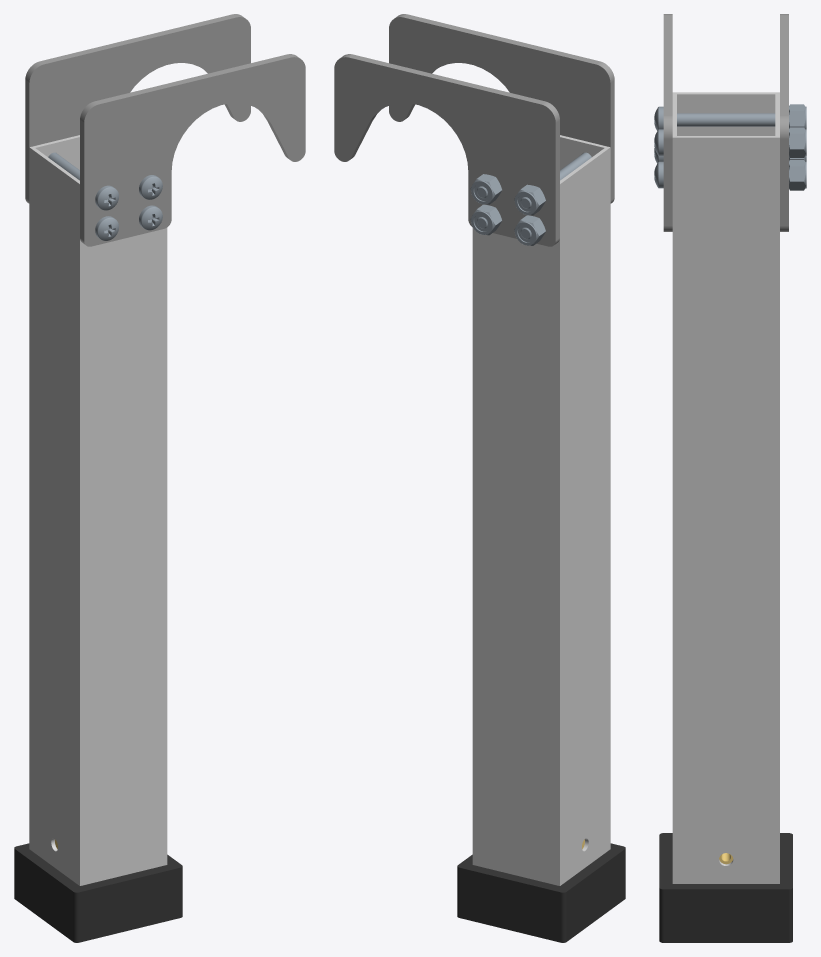
3 renders of one model, left to right at view 1: azimuth 30°, elevation 25°; view 2: azimuth 150°, elevation 25°; view 3: azimuth 270°, elevation 25°, orthographic. The views are drawn at different scales.
Parts seen in each view (by area): view 1: Inner Stage, Climber Hook (×2), 2X2 Stage Internal End Block, Pan head machine screw #10-32 x 2; view 2: Inner Stage, Climber Hook (×2), 2X2 Stage Internal End Block, Hex lock nut with nylon insert #10-32 (×4); view 3: Inner Stage, 2X2 Stage Internal End Block, Climber Hook (×2), Pan head machine screw #10-32 x 2, Hex lock nut with nylon insert #10-32 (×3).
Boxes of the visible parts, x1=… form: Inner Stage: x1=29, y1=135, x2=167, y2=885; Climber Hook (×2): x1=25, y1=14, x2=305, y2=246; 2X2 Stage Internal End Block: x1=14, y1=839, x2=182, y2=942; Pan head machine screw #10-32 x 2: x1=48, y1=152, x2=118, y2=210; Inner Stage: x1=472, y1=135, x2=610, y2=885; Climber Hook (×2): x1=334, y1=14, x2=614, y2=246; 2X2 Stage Internal End Block: x1=457, y1=839, x2=625, y2=942; Hex lock nut with nylon insert #10-32 (×4): x1=470, y1=174, x2=545, y2=245; Inner Stage: x1=672, y1=92, x2=779, y2=883; 2X2 Stage Internal End Block: x1=659, y1=833, x2=792, y2=942; Climber Hook (×2): x1=663, y1=14, x2=788, y2=231; Pan head machine screw #10-32 x 2: x1=654, y1=106, x2=775, y2=130; Hex lock nut with nylon insert #10-32 (×3): x1=789, y1=104, x2=806, y2=190.
Bounding box in the file's own units: 0.1012 × 0.3461 × 0.0541.
